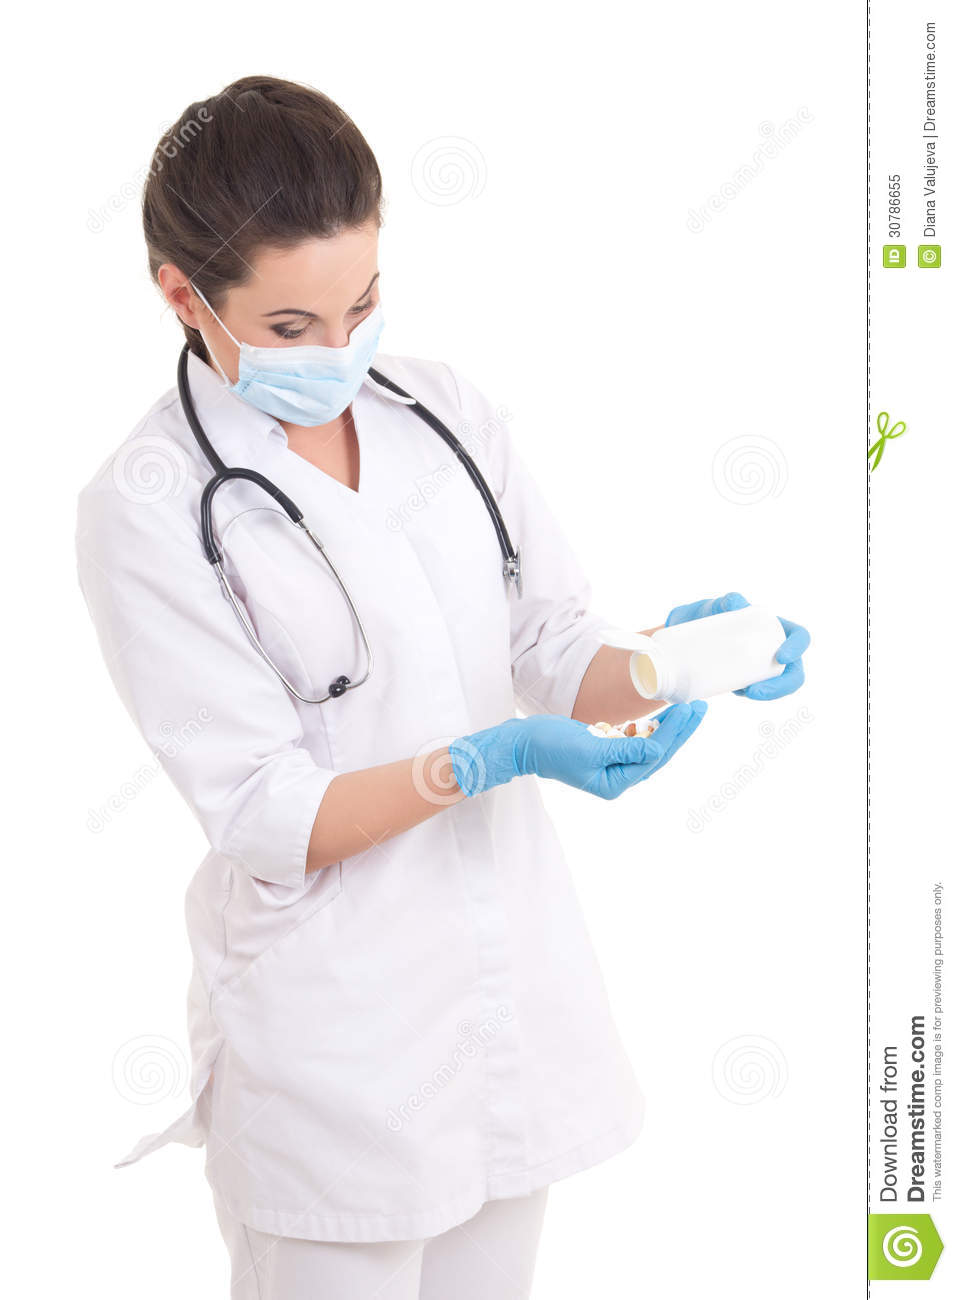mask: (237, 313, 385, 429)
